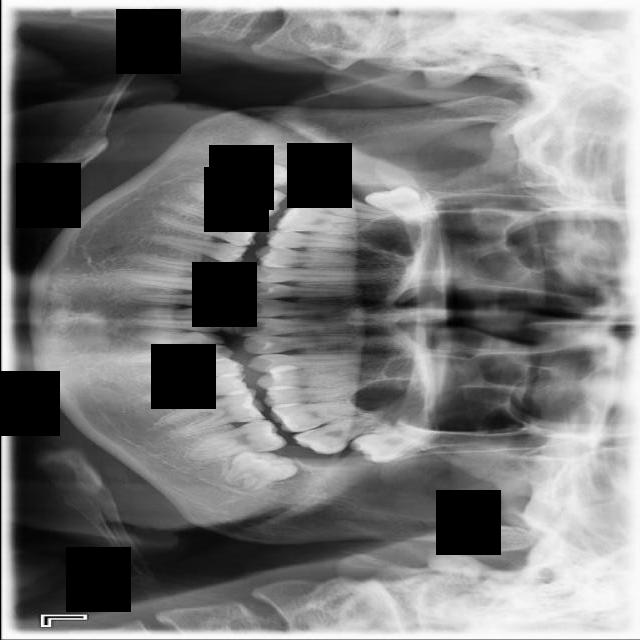3M ESPE Implant: (363, 175, 439, 224)
52: (218, 384, 266, 432)
BioHorizons Implant: (291, 404, 391, 466)
BioLife Implant: (348, 425, 432, 467)
Biomet 3i Implant: (223, 445, 301, 498)
Blue Sky Bio Implant: (181, 416, 288, 464)
Caries: (294, 176, 394, 227)
Implant: (181, 182, 286, 219)
Keystone Dental Implant: (216, 147, 292, 204)
